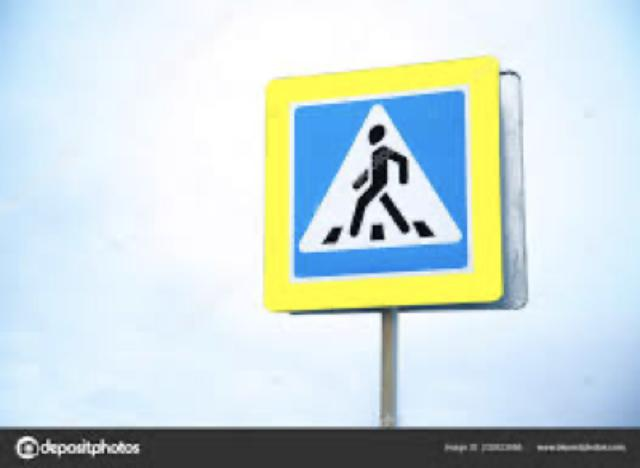crosswalk-sign: (262, 56, 522, 315)
